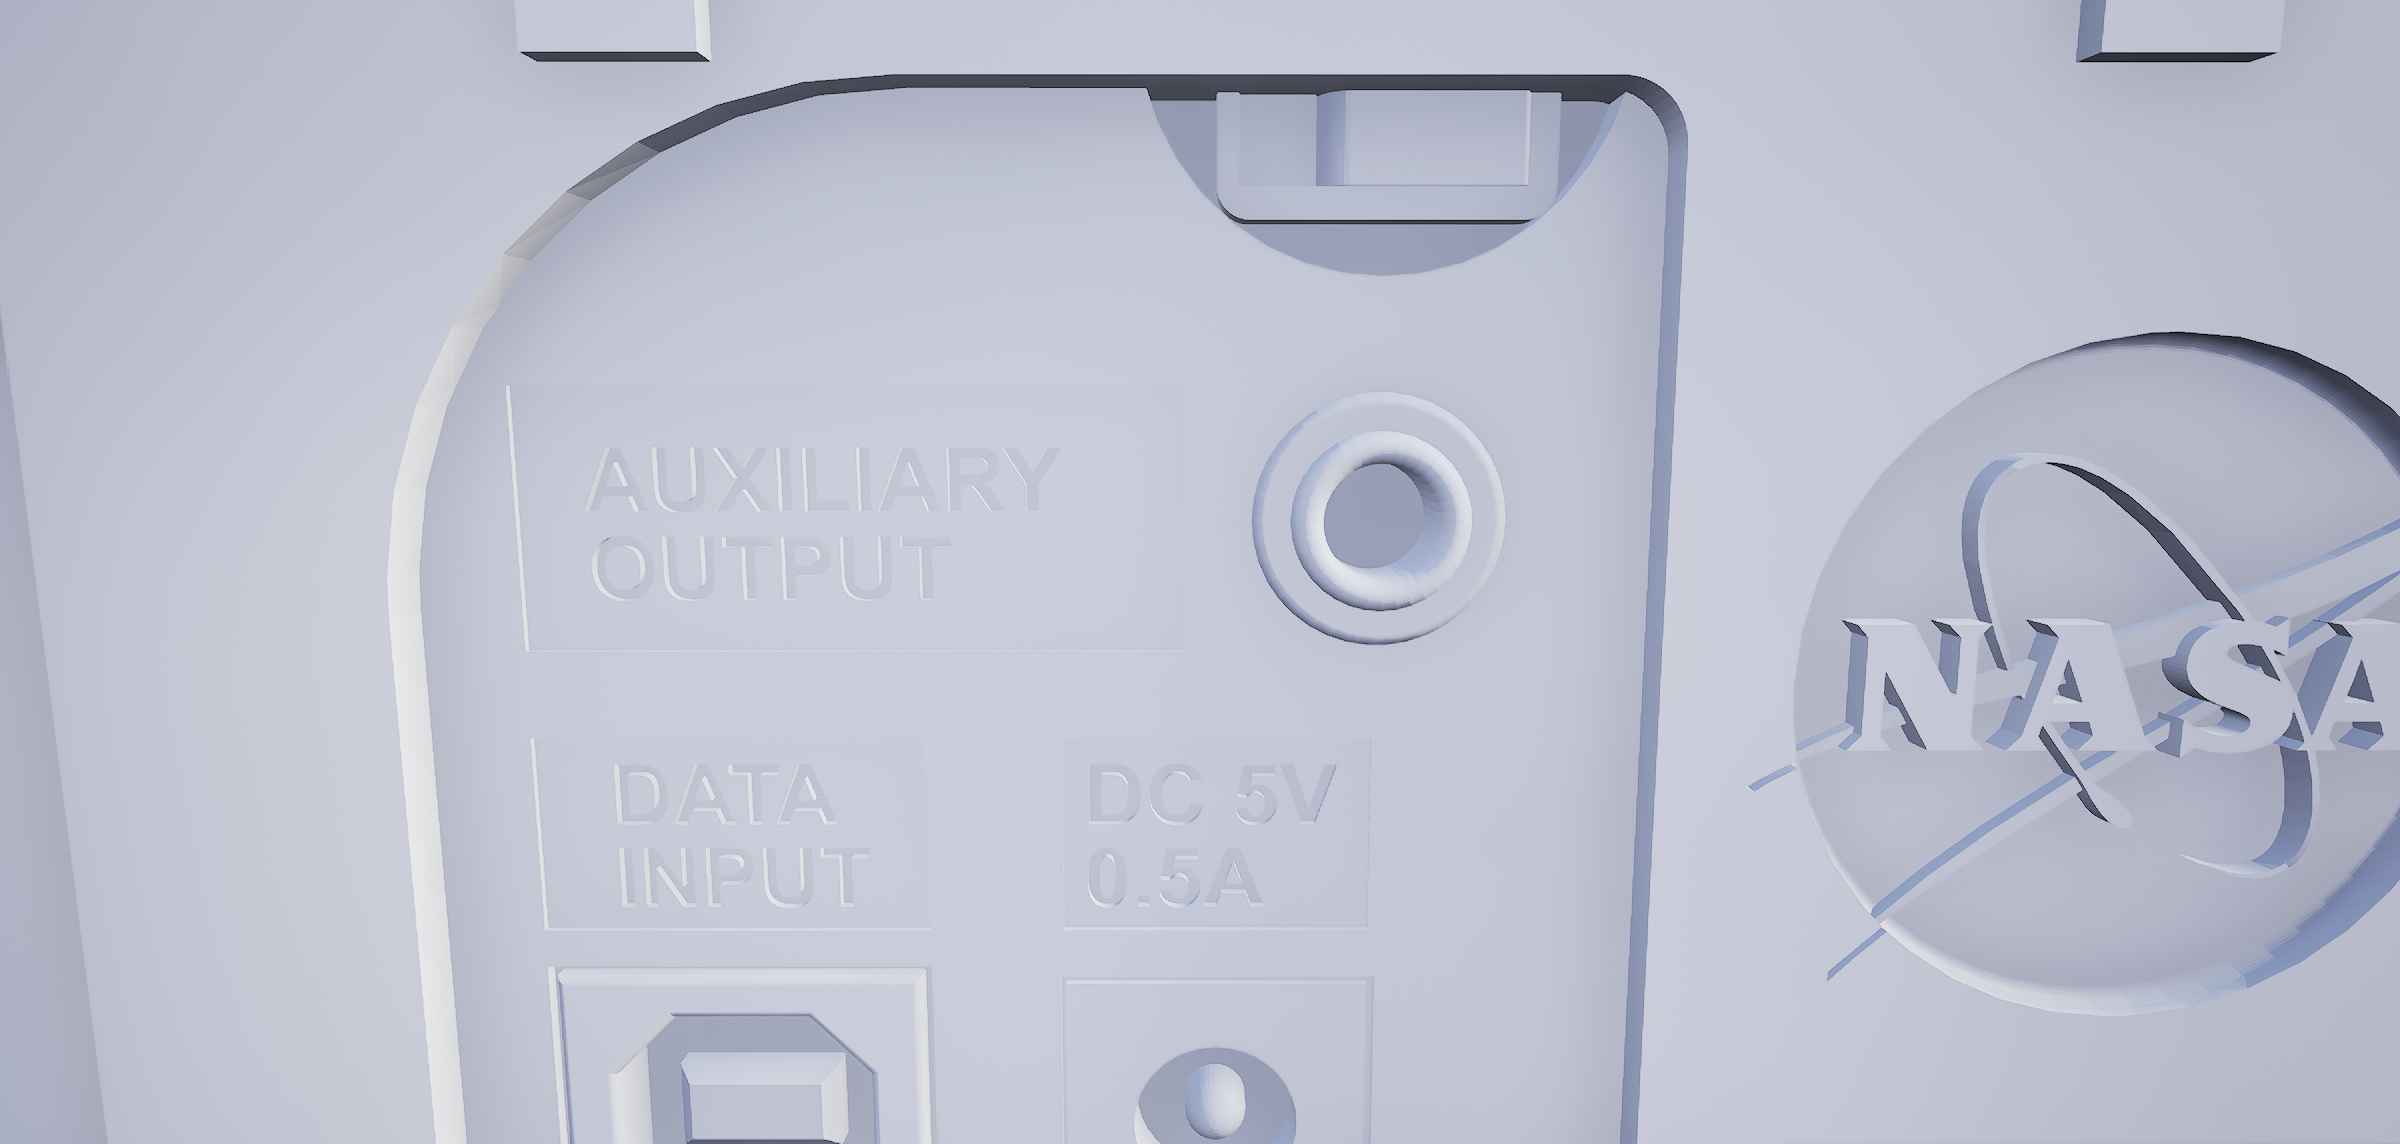aux: (1237, 387, 1523, 655)
dc: (1133, 1031, 1318, 1144)
usb: (595, 995, 900, 1144)
